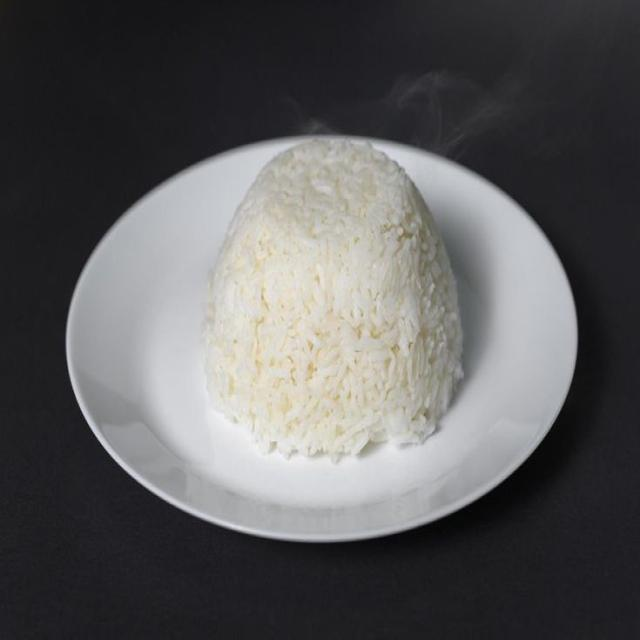rice: (206, 141, 462, 456)
